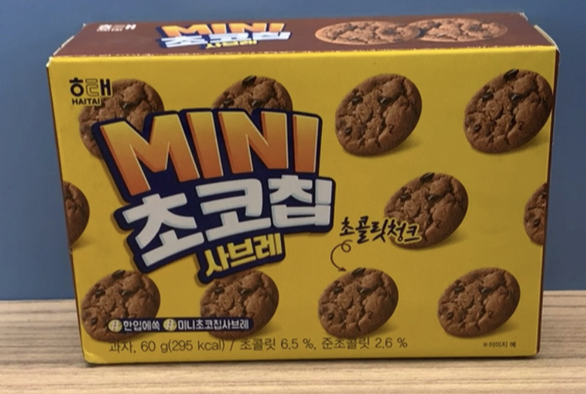cookies_50g: (74, 64, 541, 356)
